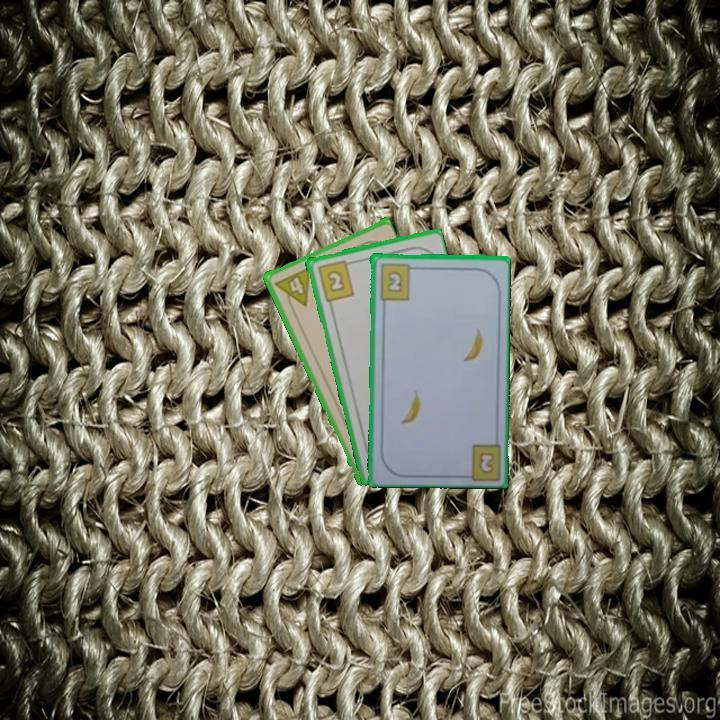2b: (314, 256, 357, 304), (376, 260, 419, 302), (476, 448, 497, 476)
4p: (270, 264, 313, 314)
